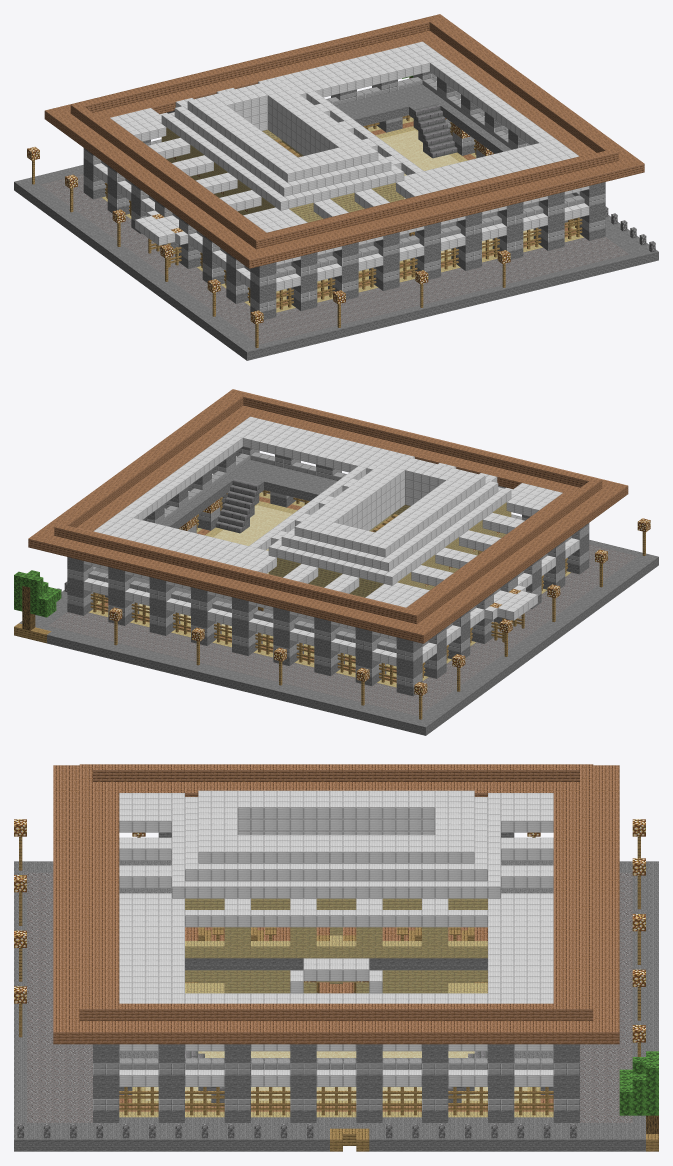
The model's file is SCHOLL_MINE_2.fbx.
3 views of the same model, one above another, from view 1: azimuth 30°, elevation 25°; view 2: azimuth 150°, elevation 25°; view 3: azimuth 270°, elevation 25° (orthographic). The views are drawn at different scales.
Visible parts, largest first — view 1: big_school_schematic___48_0__70_to_106_255_83; view 2: big_school_schematic___48_0__70_to_106_255_83; view 3: big_school_schematic___48_0__70_to_106_255_83.
Part boxes in pixels (box(x1,y1,x2,y2)): big_school_schematic___48_0__70_to_106_255_83: box(14, 14, 658, 360); big_school_schematic___48_0__70_to_106_255_83: box(14, 389, 658, 735); big_school_schematic___48_0__70_to_106_255_83: box(14, 764, 658, 1151).
Bounding box in the file's own units: 127 × 33.02 × 124.
24 materials, 24 textured.
